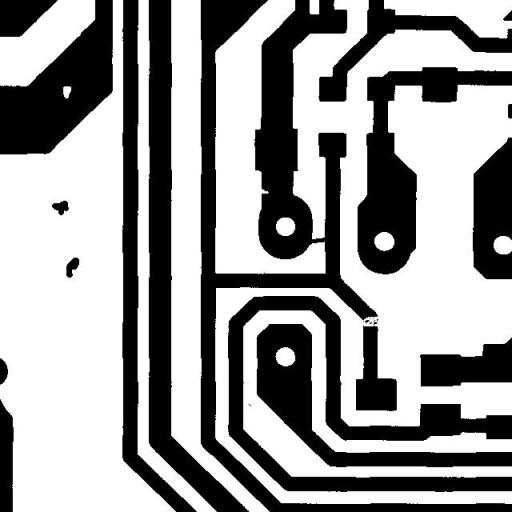copper: (58, 250, 86, 284), (44, 193, 76, 222)
mousebite: (250, 180, 276, 201)
open: (354, 308, 388, 334)
pin-hole: (56, 78, 78, 106)
short: (300, 230, 333, 252)
